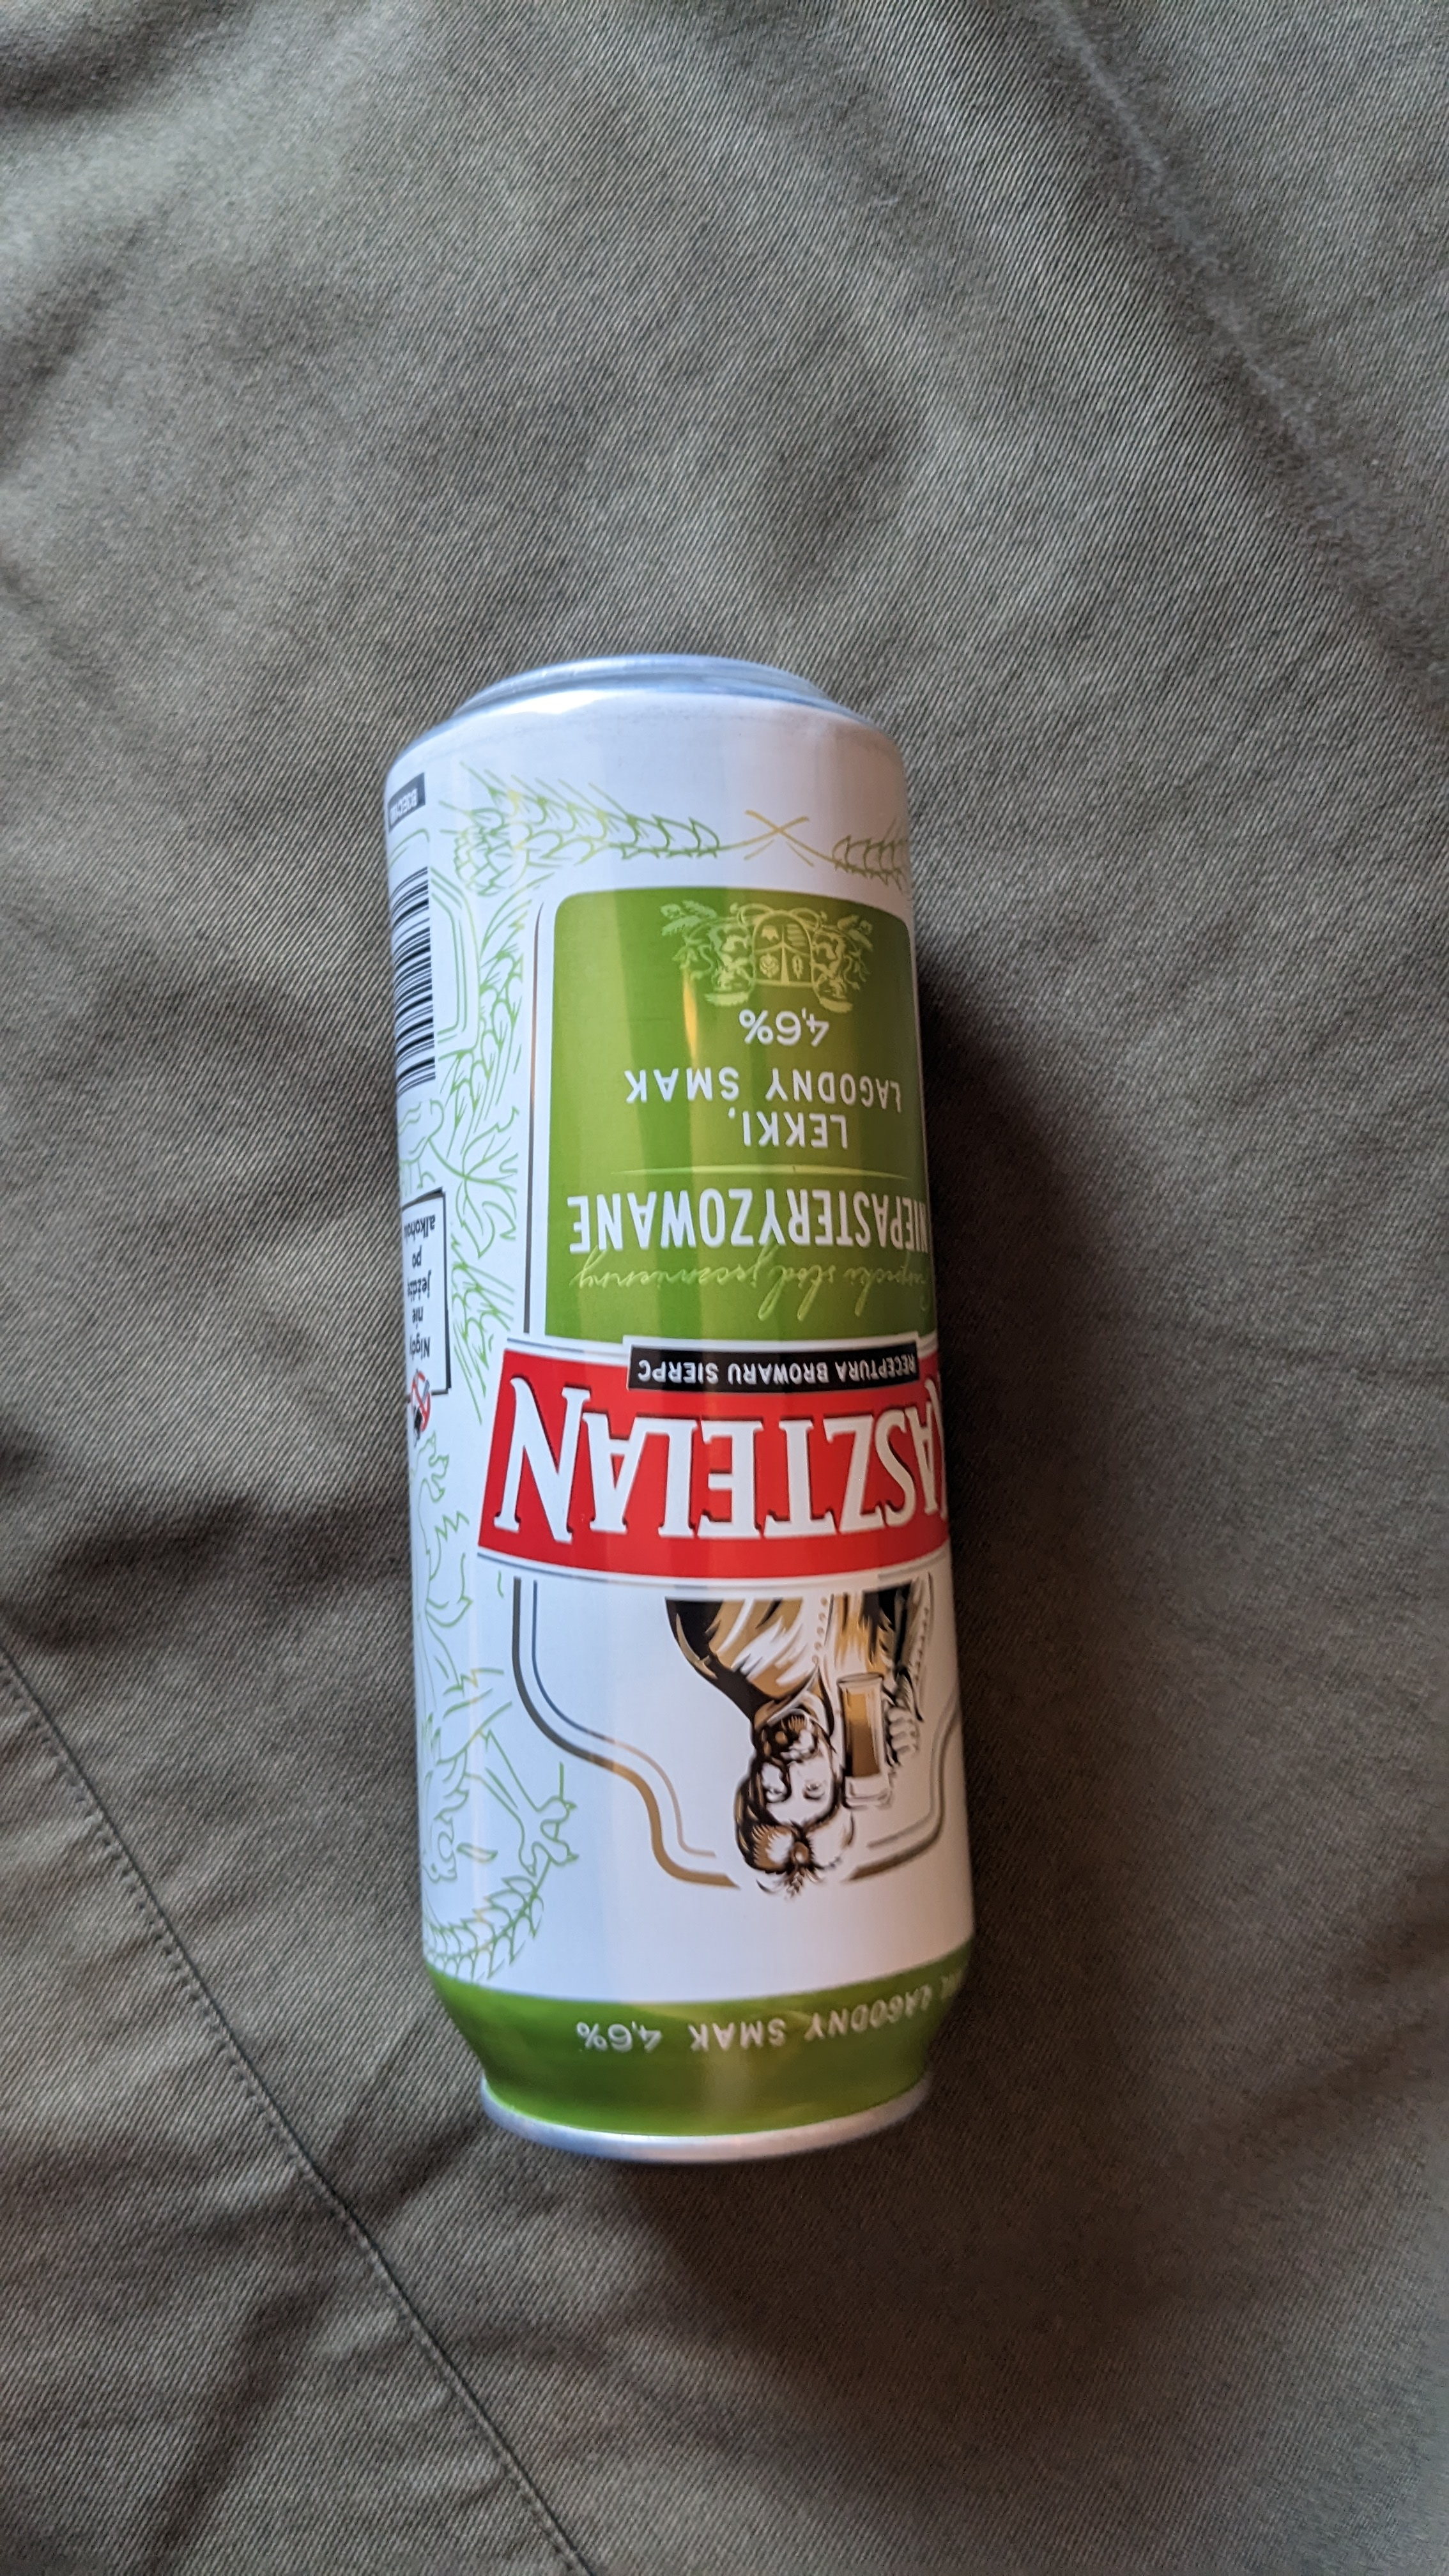kasztelan: (352, 630, 1044, 2196)
